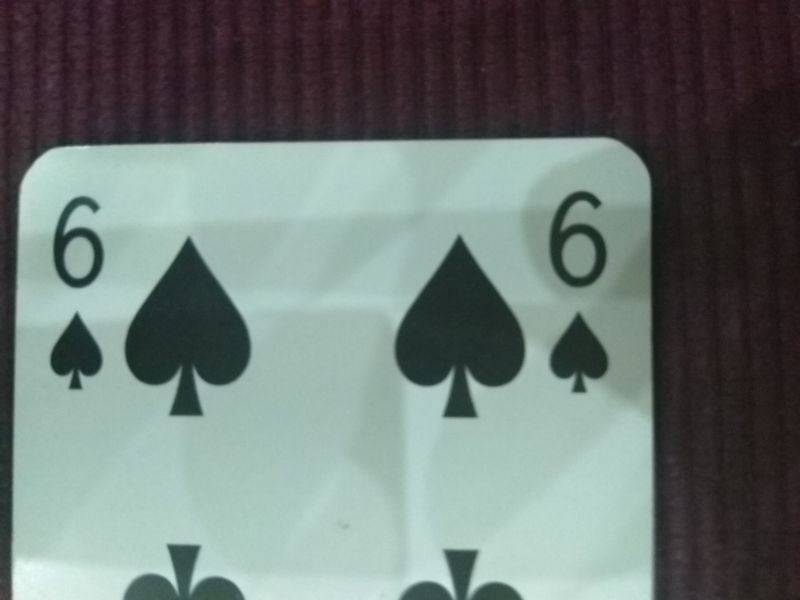6s: (535, 179, 620, 404), (41, 187, 113, 400)
